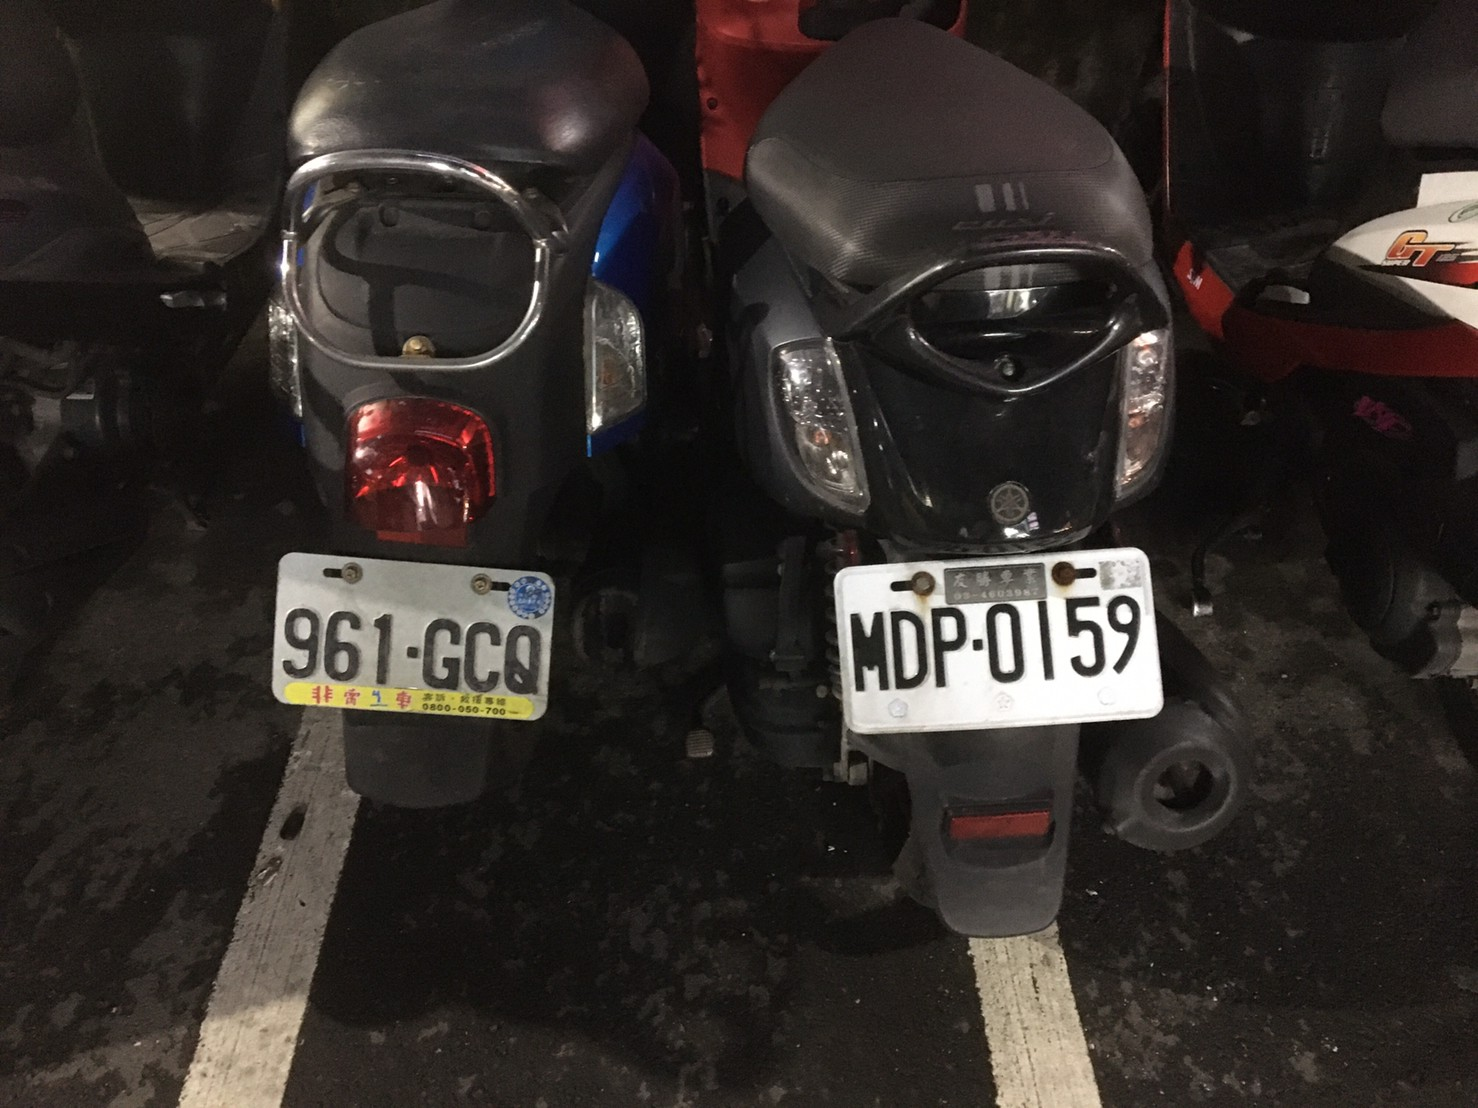LP: (828, 544, 1175, 742), (271, 543, 560, 727)
